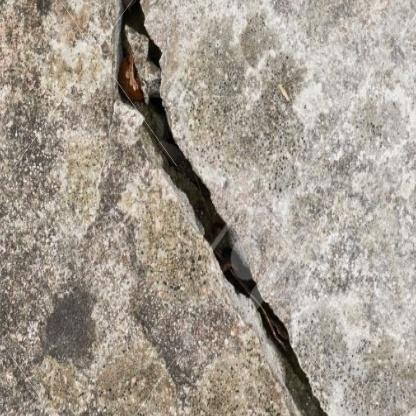Cracks: (106, 0, 346, 416)
